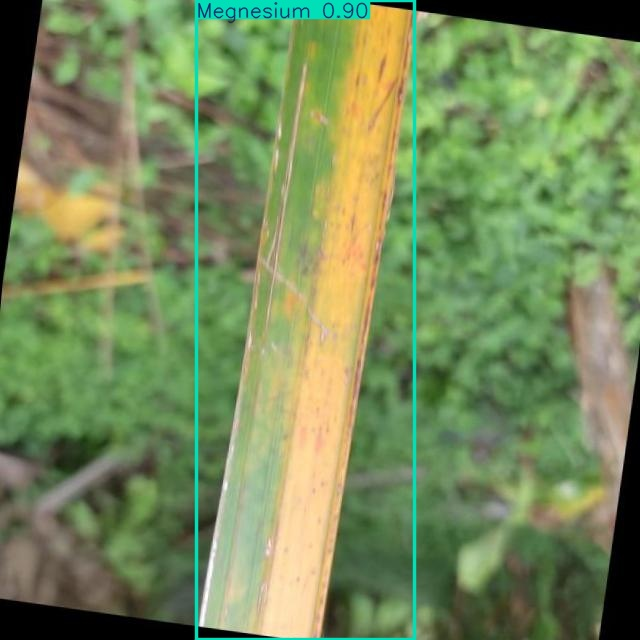Megnesium: (197, 0, 414, 640)
